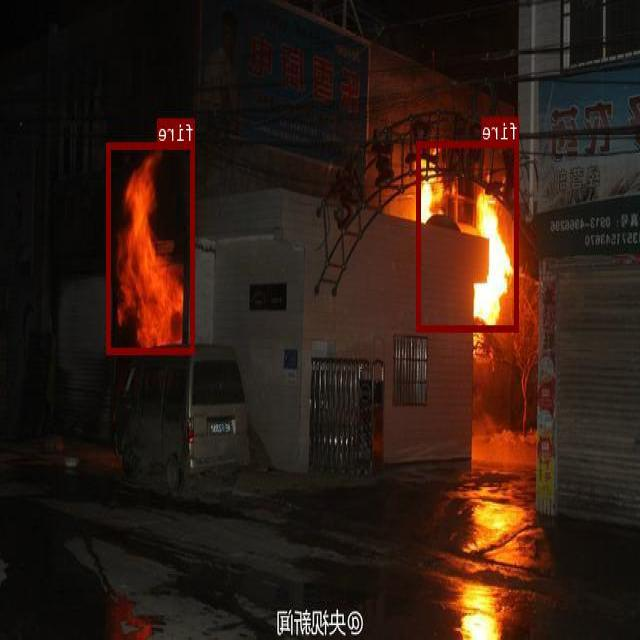fire: (417, 140, 520, 330), (108, 142, 195, 352)
